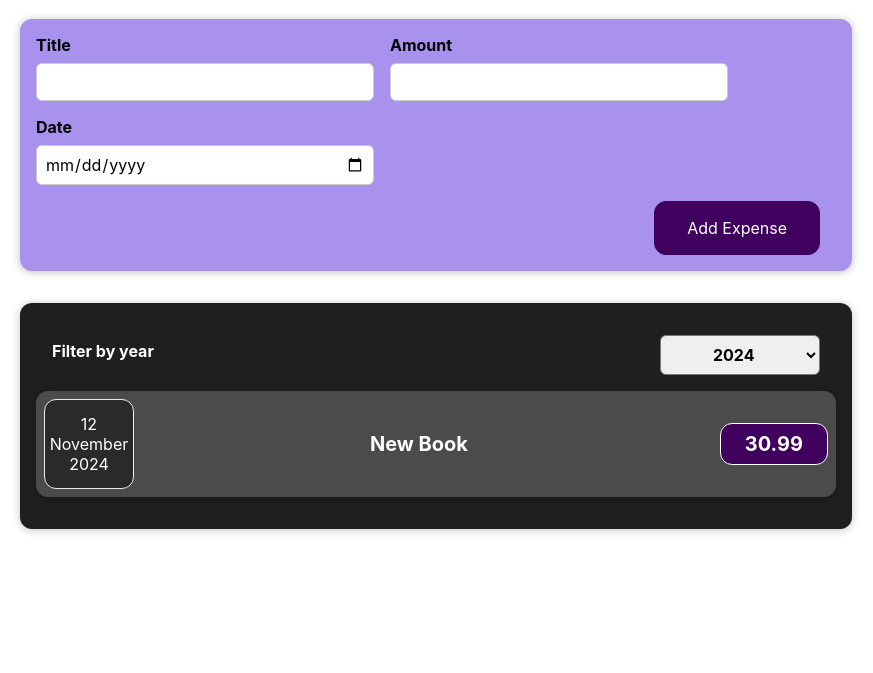
Test case: adds a new expense to the beginning of the list
Select "2025" in the dropdown at (740, 355), box [660,335,820,375]
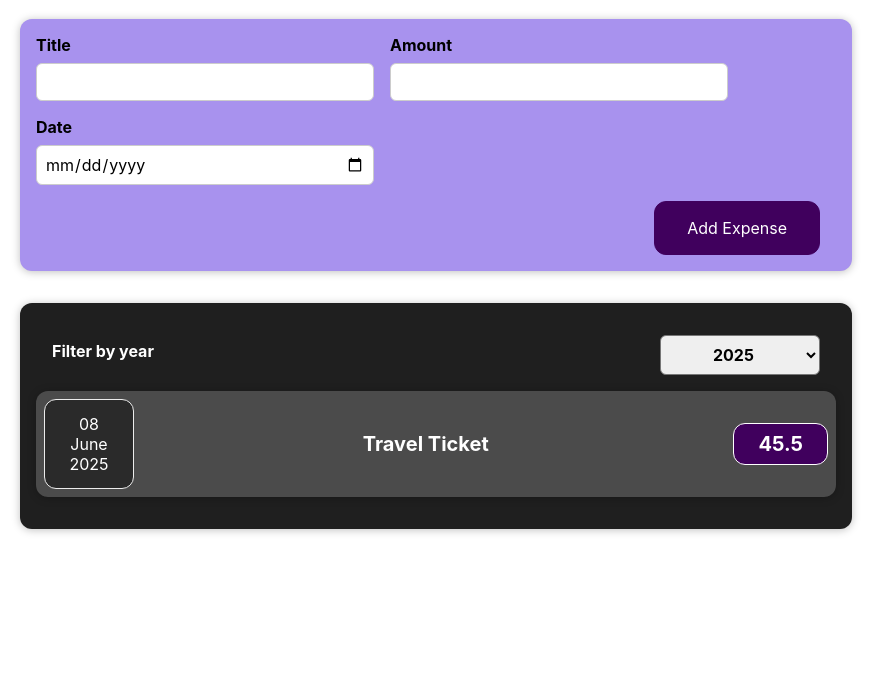
Type "Coffee" into the field.
click(205, 82); type("Coffee")  # box [36,63,374,101]
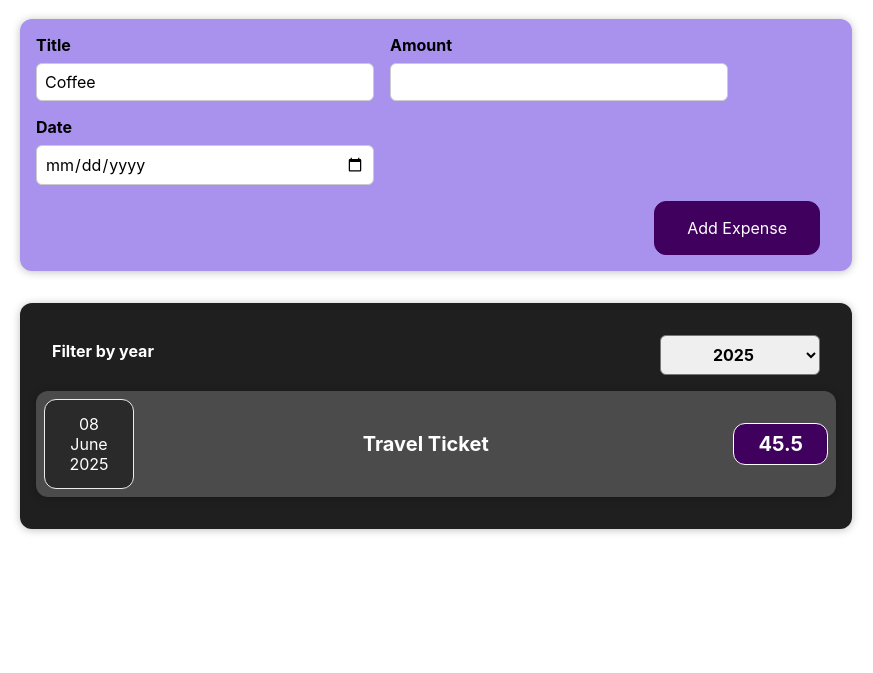
Type "12.50" into the number field.
click(559, 82); type("12.50")  # box [390,63,728,101]
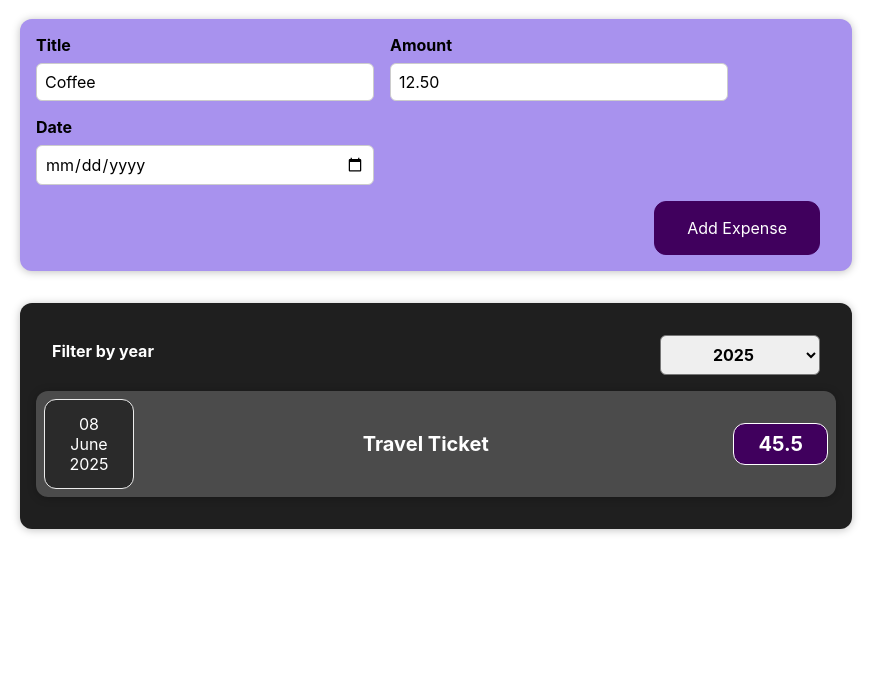
Type "2025-02-01" into the date field.
click(205, 165); type("2025-02-01")  # box [36,145,374,185]
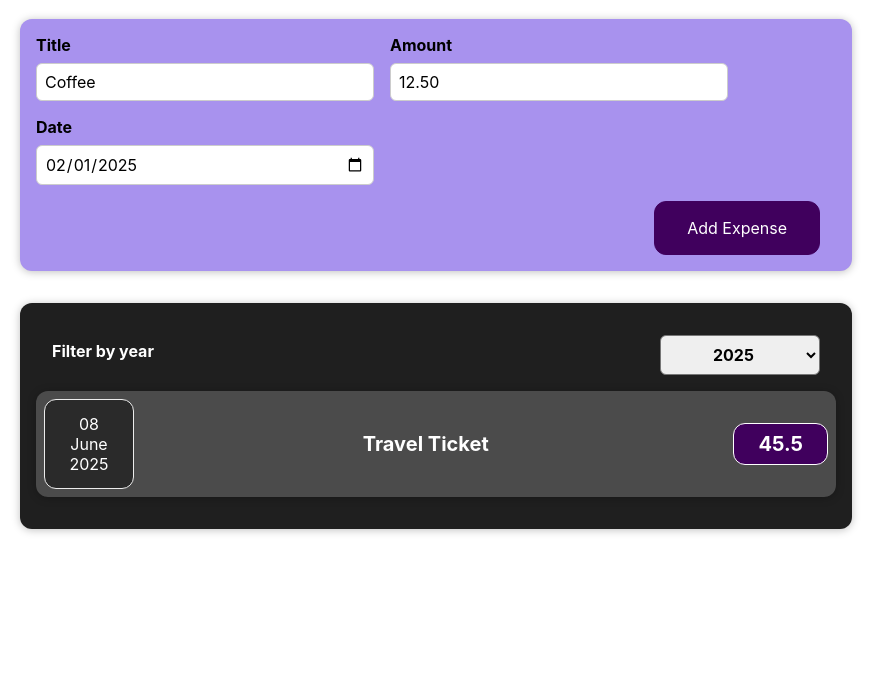
Click the button "Add Expense".
click(737, 228)  # box [654,201,820,255]
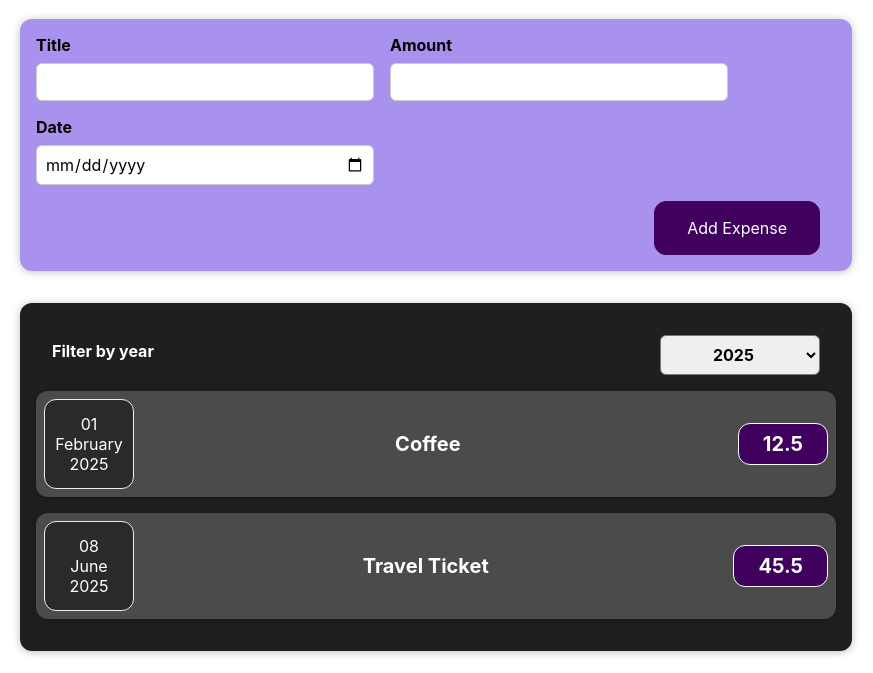
Expected: the heading "Coffee" is shown, [395,432,461,456]
Expected: the text "12.5" is shown, [738,423,828,465]
Expected: the number of headings is 2, [395,432,461,456]; [363,554,489,578]
